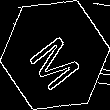M_NE: (24, 22, 86, 88)
